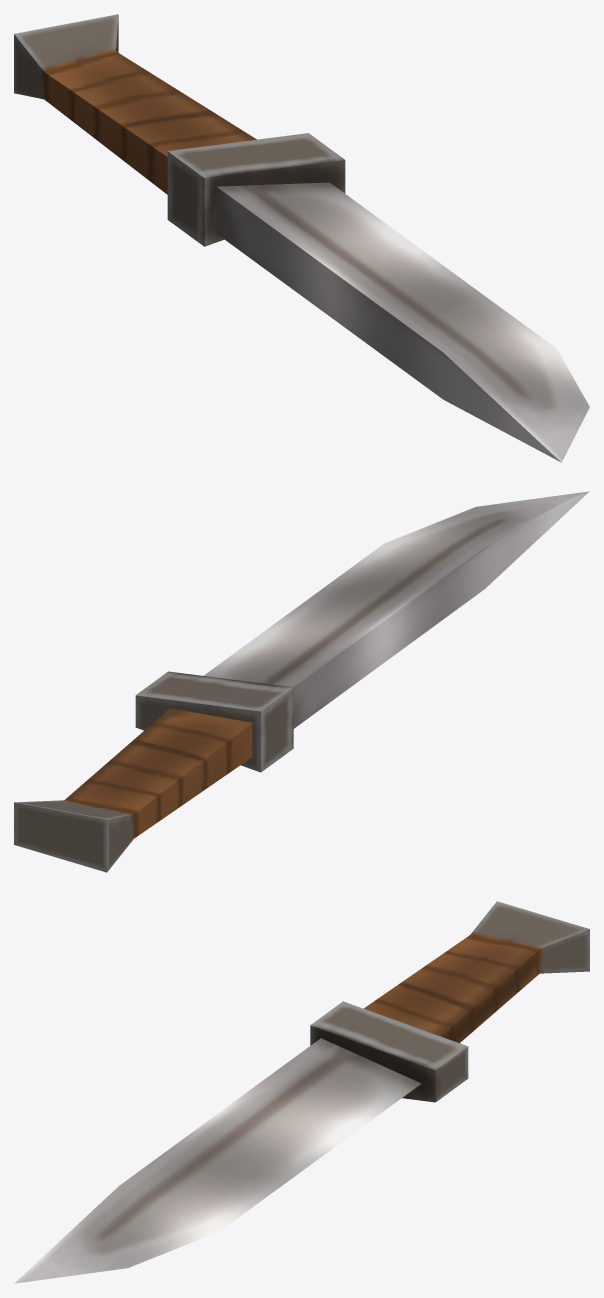
Rendered from Food_knife.fbx.
The picture shows the model from 3 angles, top to bottom: view 1: azimuth 30°, elevation 25°; view 2: azimuth 150°, elevation 25°; view 3: azimuth 330°, elevation 25°; orthographic projection. The views are drawn at different scales.
Parts seen in each view (by area): view 1: Food_knife; view 2: Food_knife; view 3: Food_knife.
Boxes of the visible parts, x1=… form: Food_knife: x1=14, y1=14, x2=589, y2=462; Food_knife: x1=14, y1=491, x2=589, y2=872; Food_knife: x1=14, y1=901, x2=589, y2=1283.
Bounding box in the file's own units: 0.0543 × 0.0253 × 0.3638.
